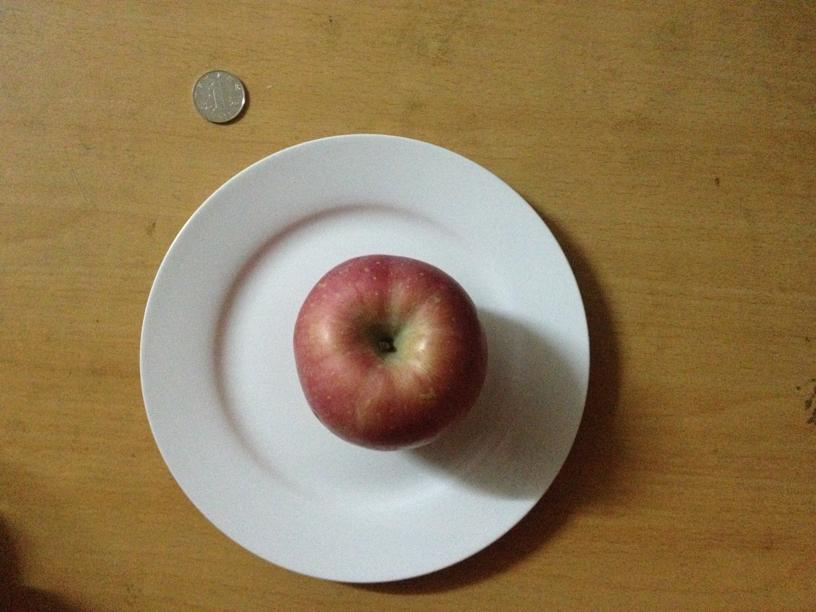apple: (295, 257, 489, 451)
coin: (191, 67, 249, 123)
